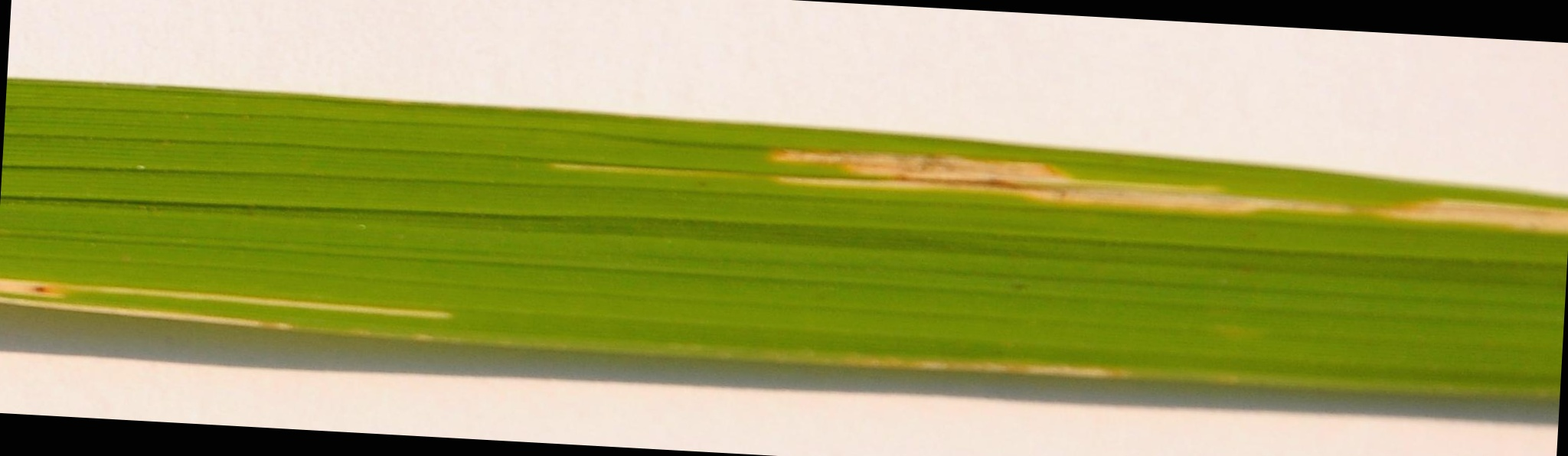Leaf_Blast: (462, 134, 1566, 228), (0, 264, 484, 388)
